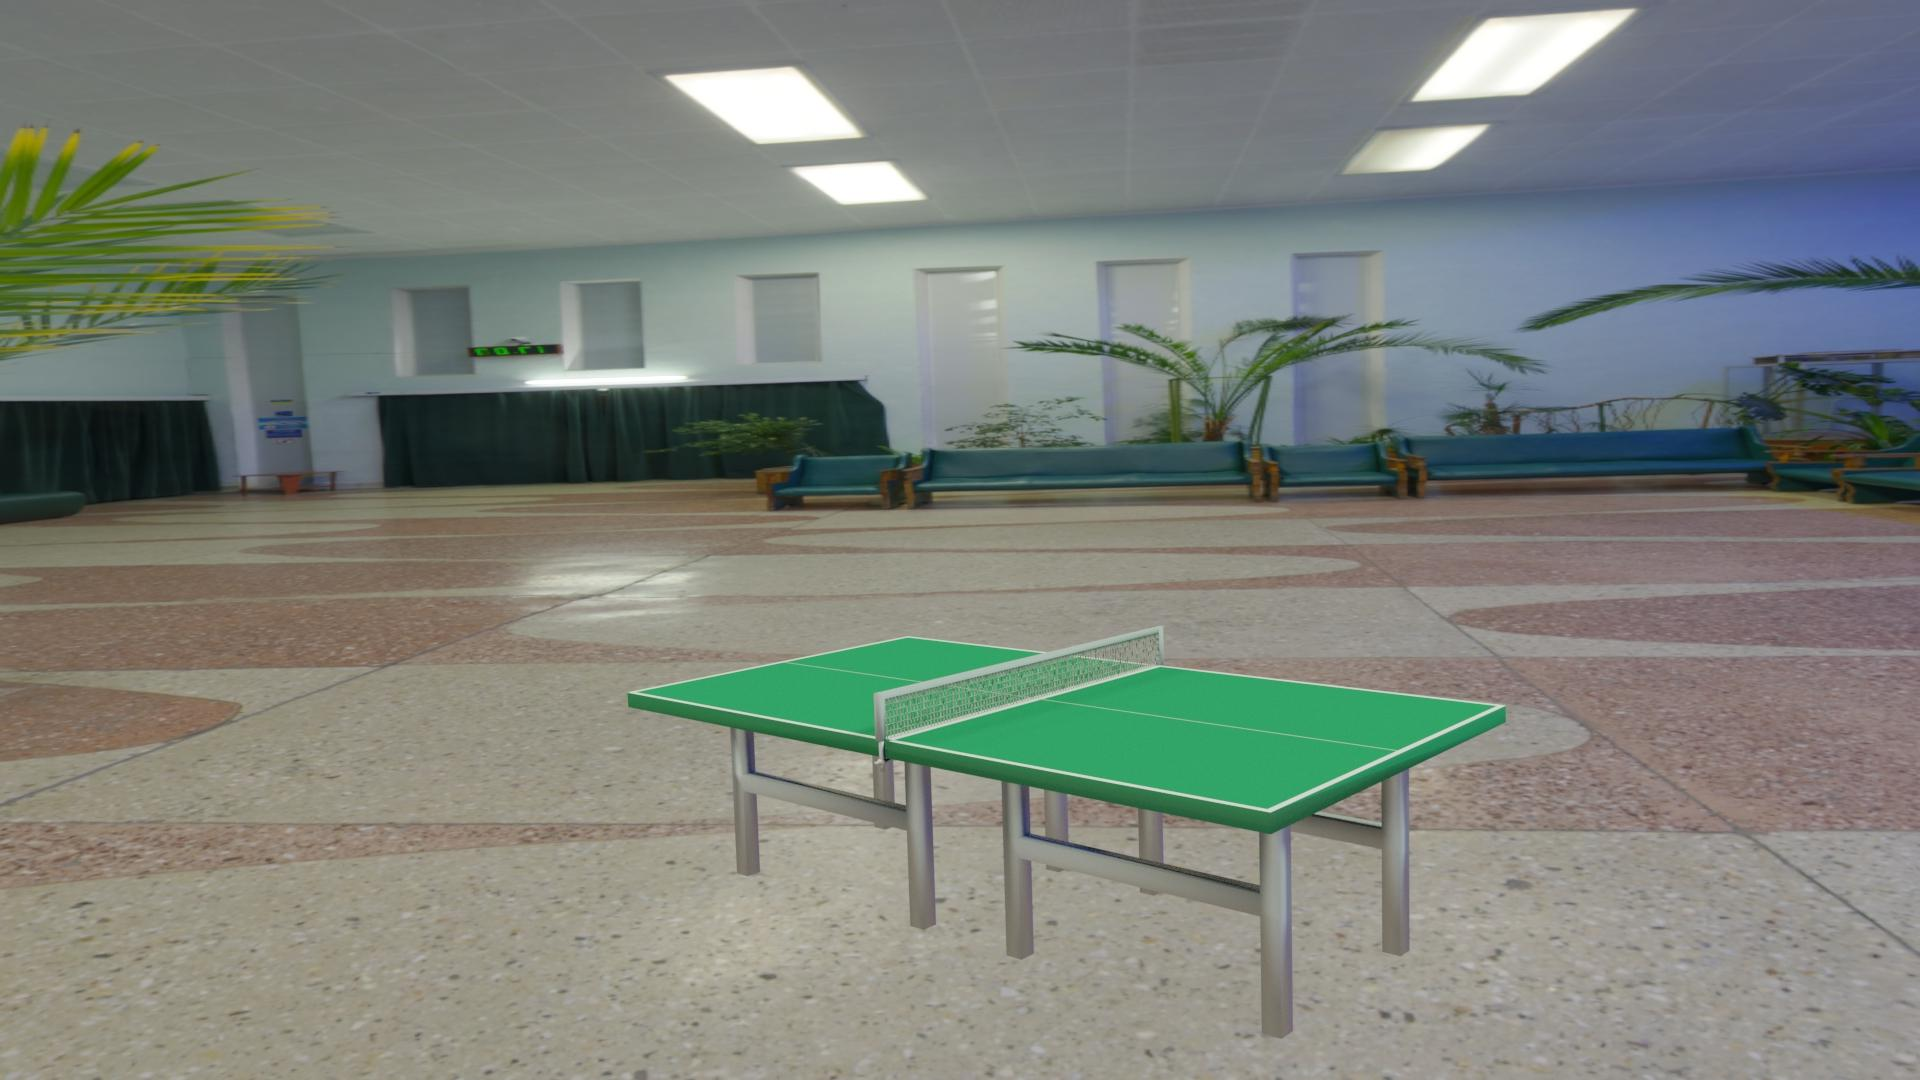table: (636, 637, 1498, 810)
